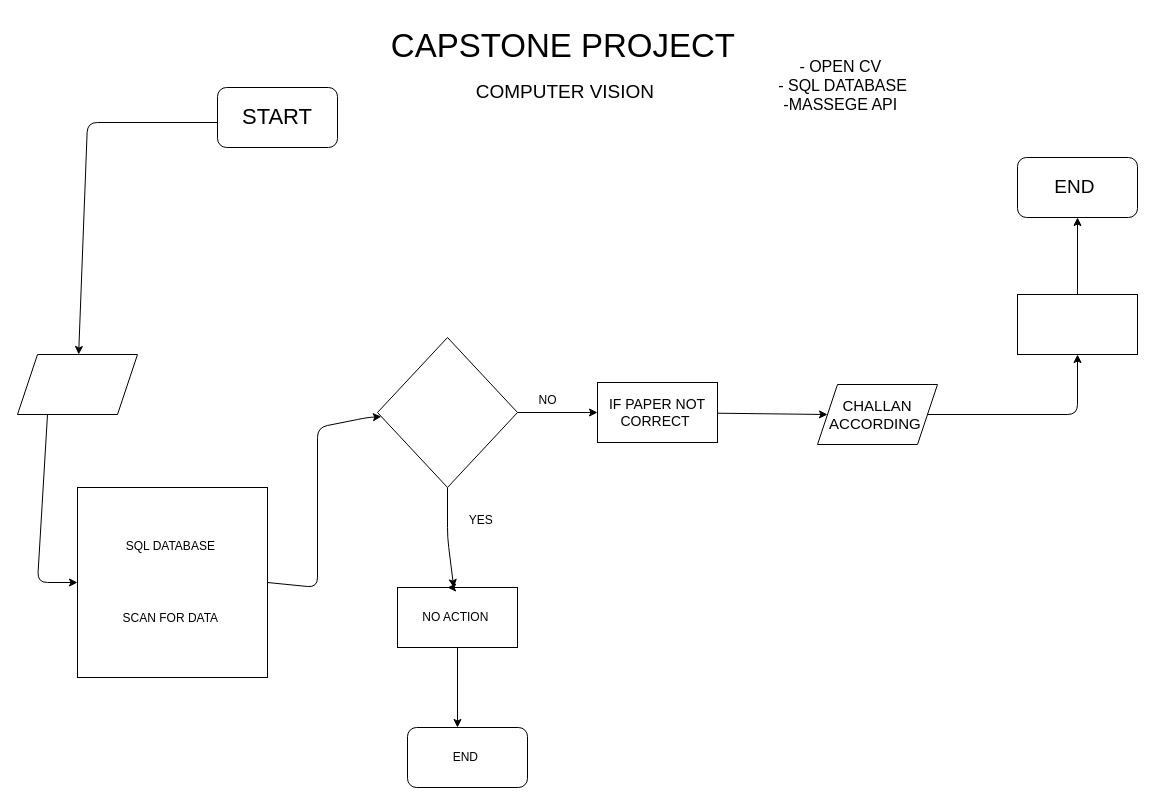
Some shapes in this 1155 by 805 pixel diagram are drawn without their labels. Each missing label, with the centre of its shape:
"IF ALL PAPER CORRECT THEN" goes at point 447,412.
"MESSAGE /MAIL FROM DATA TO USER" goes at point 1077,324.
"OPEN CV SCAN NUMBER PLATE" goes at point 77,384.
